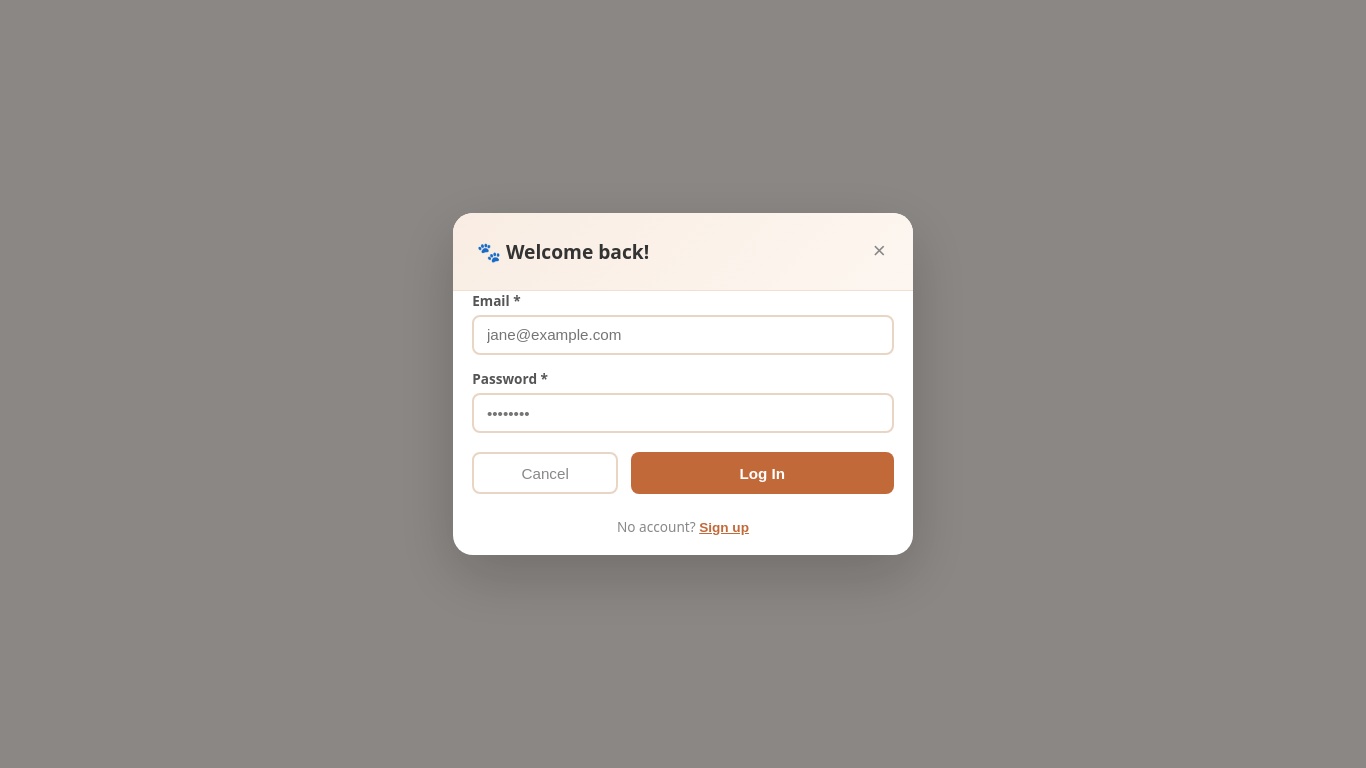
Test case: AuthModal – login mode › shows error message when login fails
Type "x@x.com" into the field with placeholder "jane@example.com". click: [683, 335]
box: [472,315,894,355]
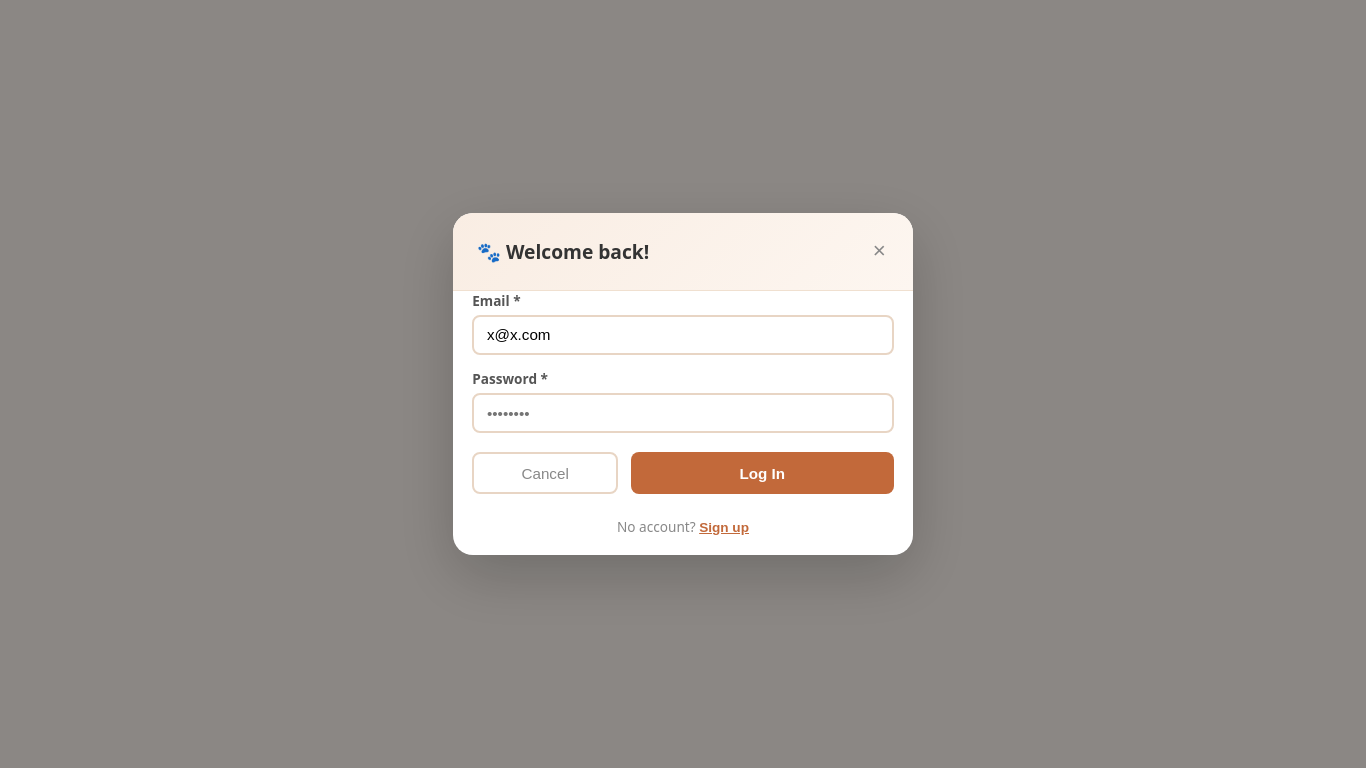
Type "wrong" into the password field with placeholder "••••••••". click: [683, 413]
box: [472,393,894,433]
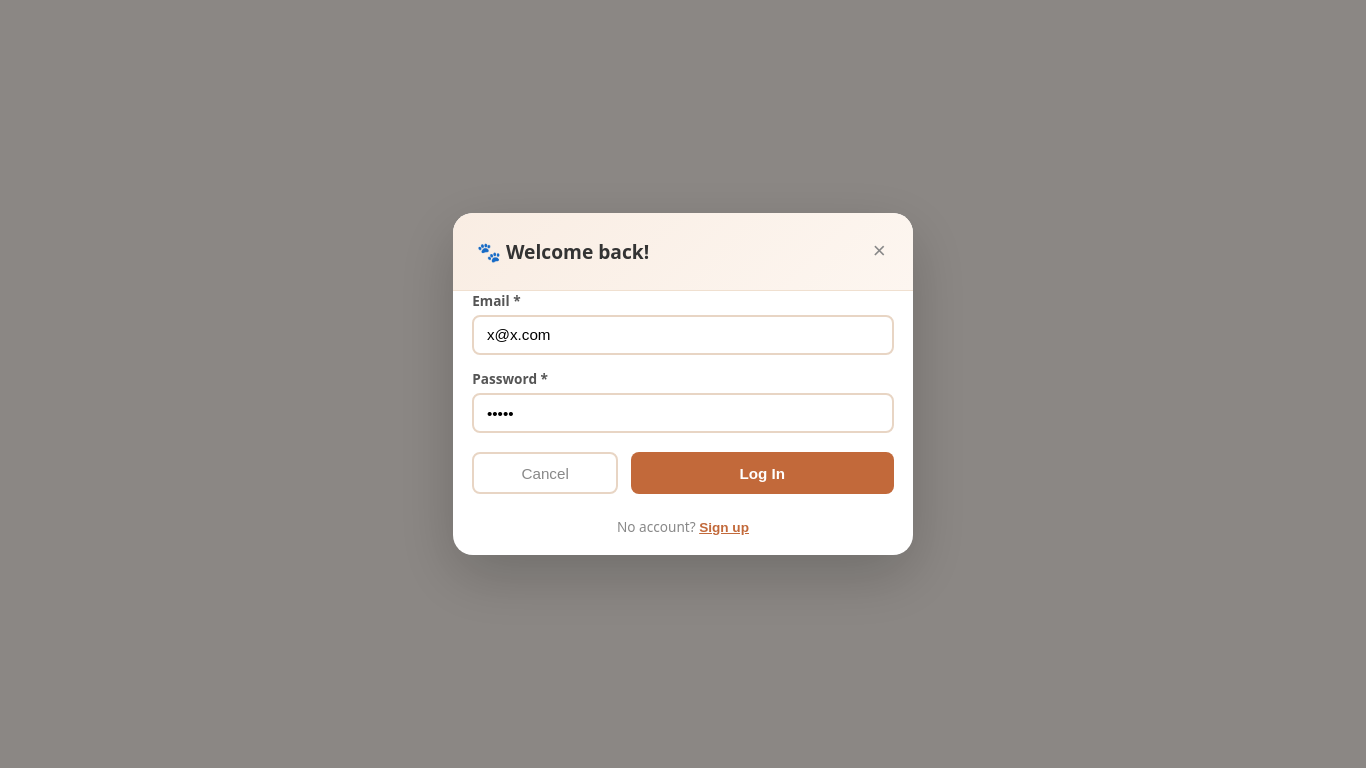
Click the button "Log In". click: [762, 473]
box: [631,452,894,494]
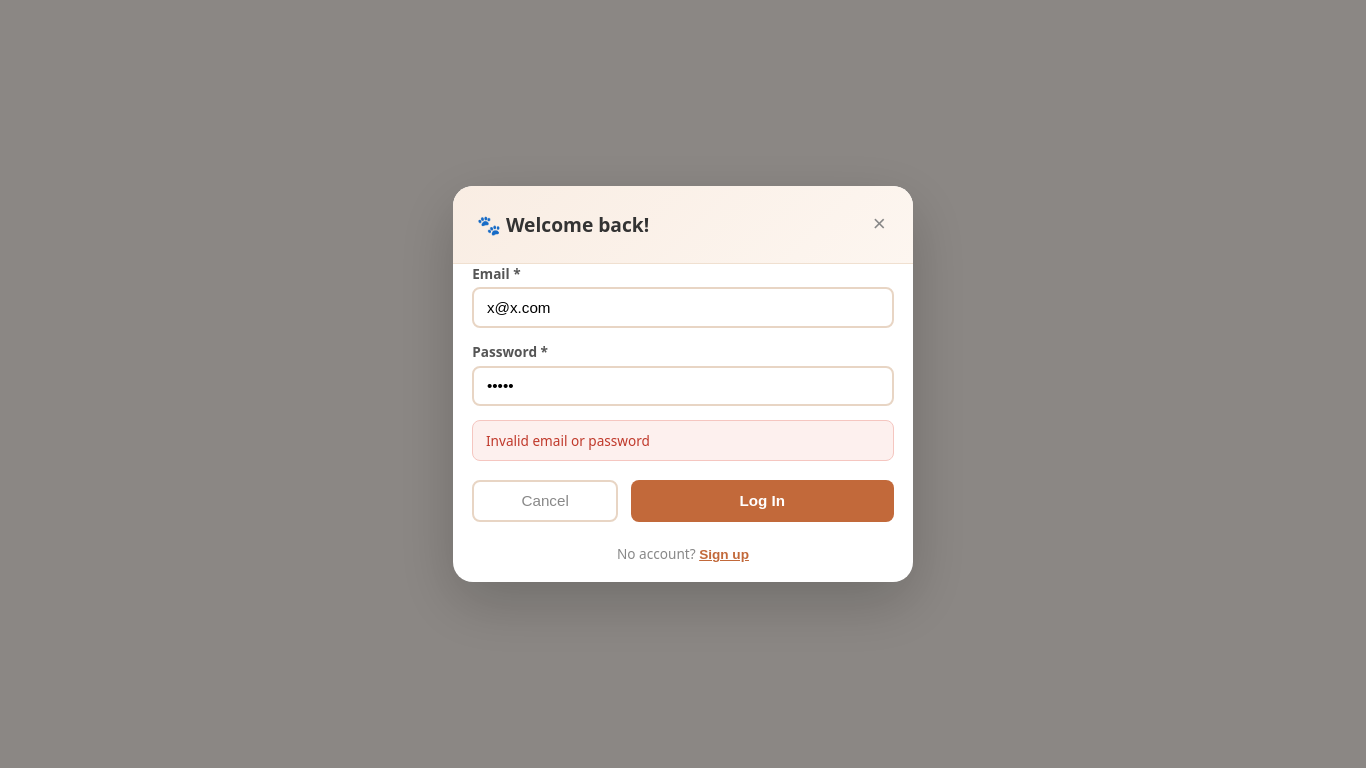
Now the text "Invalid email or password" is shown, box [472,420,894,461]
